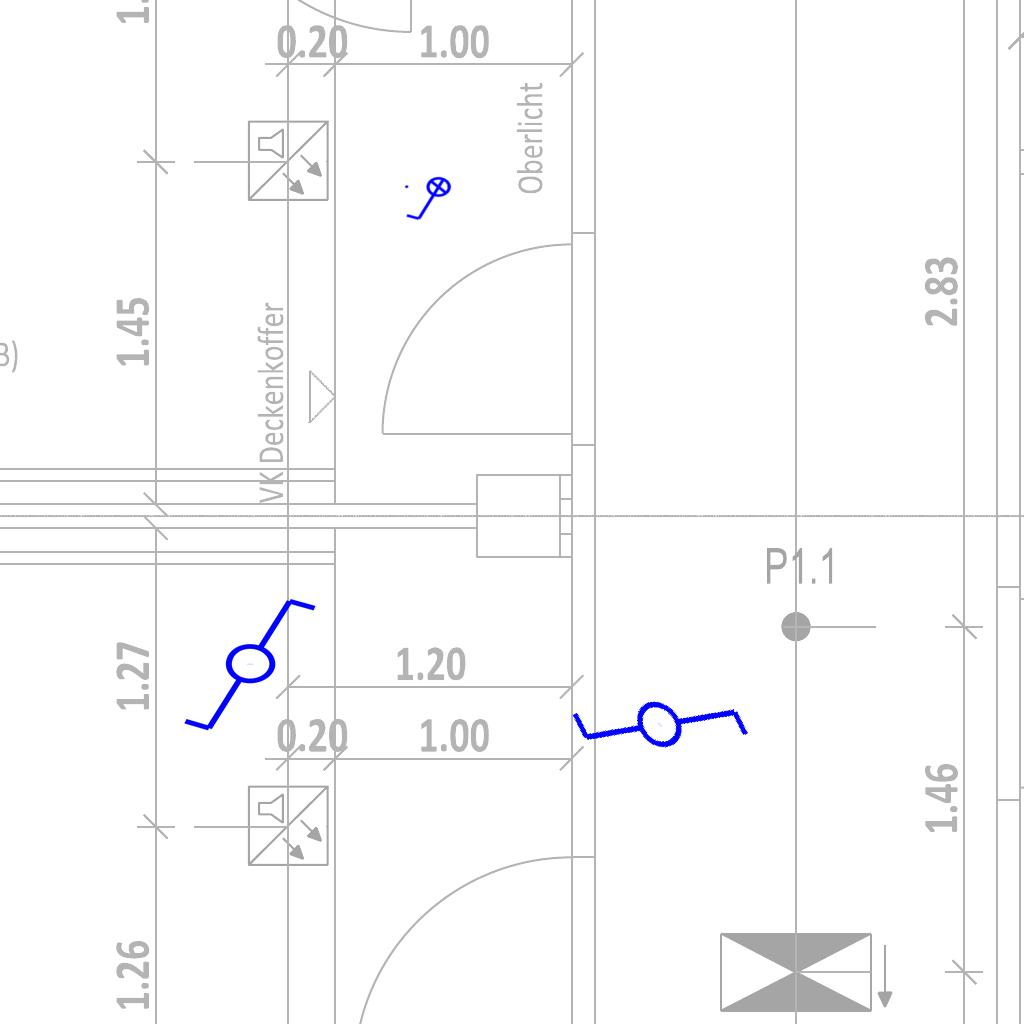Ausschalter_beleuchtet: (402, 176, 458, 224)
Wechselschalter: (549, 610, 762, 824), (180, 594, 337, 738)
